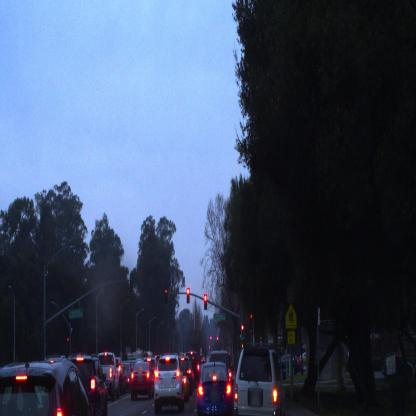car: (0, 358, 96, 416), (234, 347, 285, 414), (154, 354, 196, 416), (69, 357, 108, 415), (195, 360, 235, 416), (96, 353, 121, 399), (128, 360, 156, 399)
